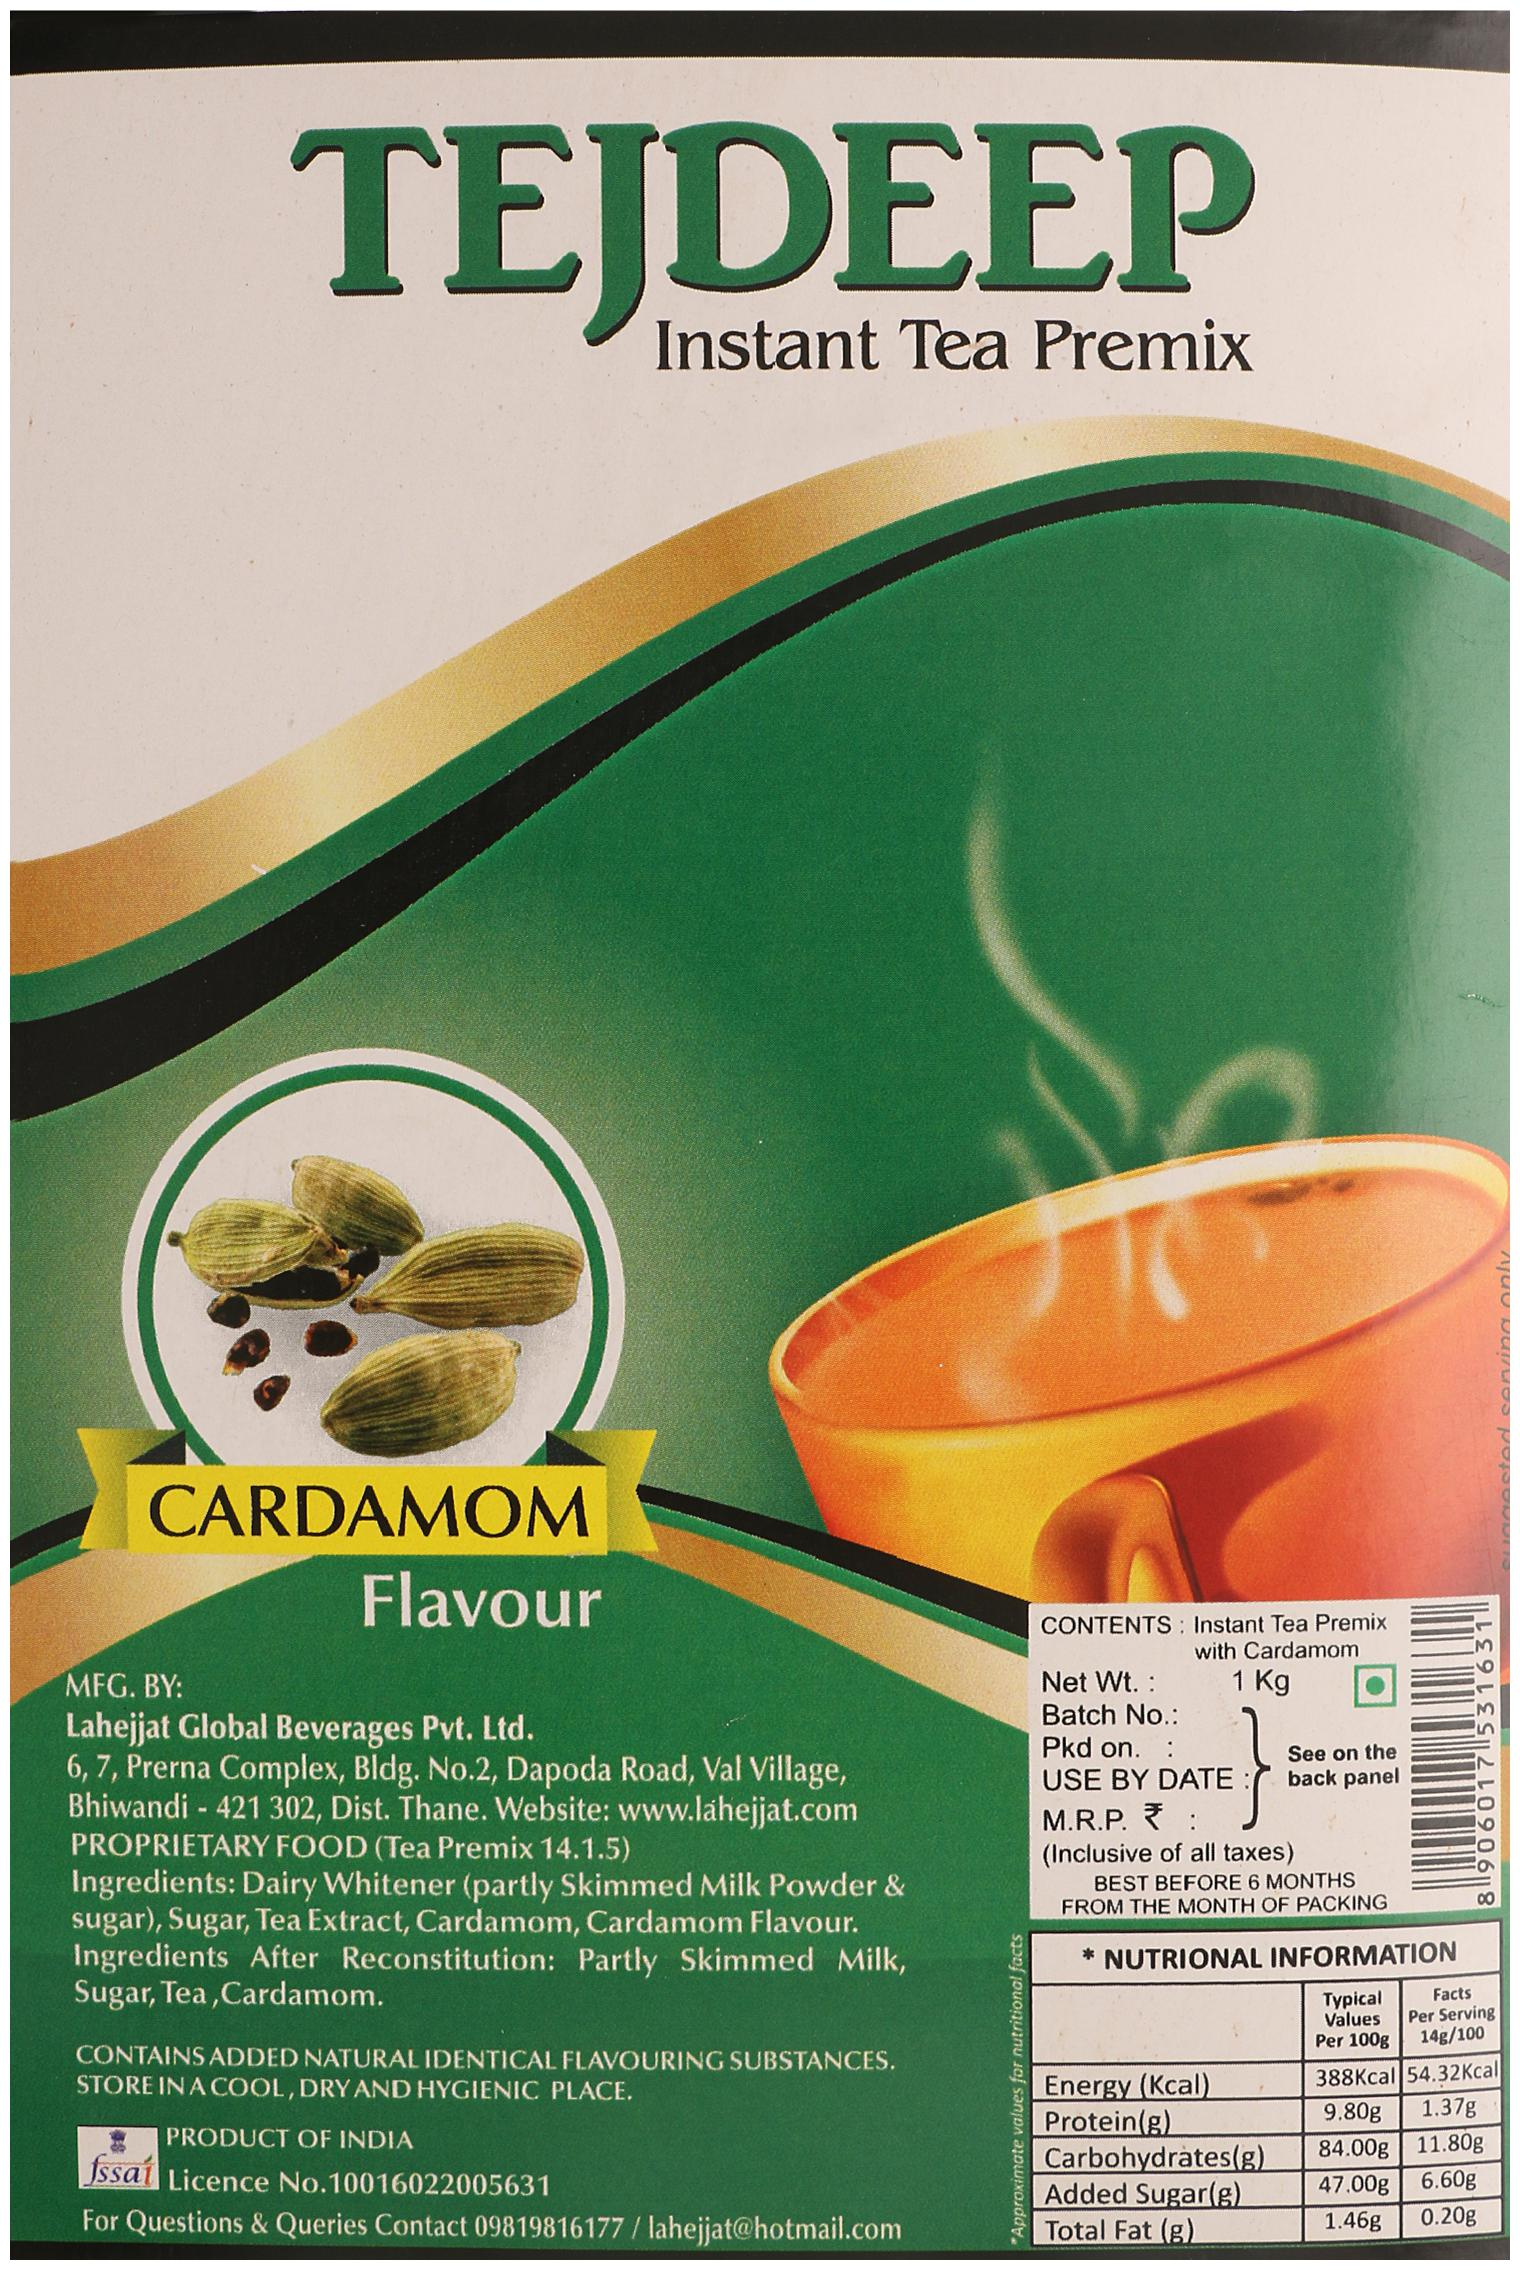fssai: (81, 2151, 154, 2187)
